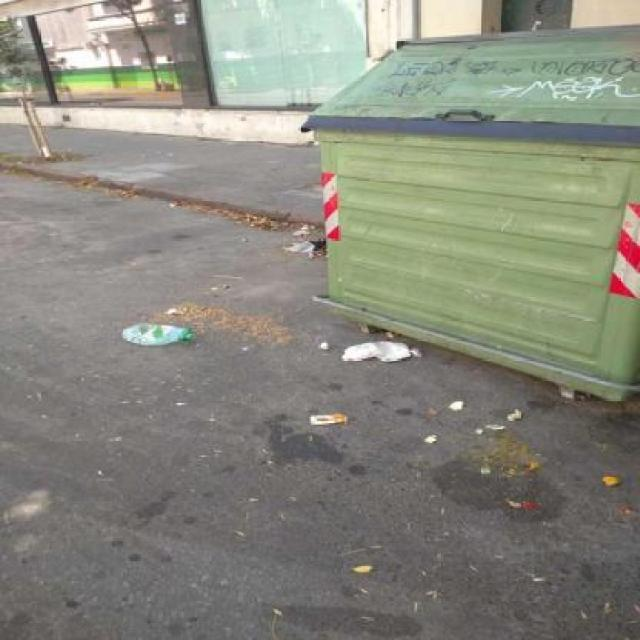garbage: (436, 399, 543, 442), (116, 313, 210, 353), (317, 342, 440, 370), (277, 223, 337, 262), (309, 414, 356, 426)
